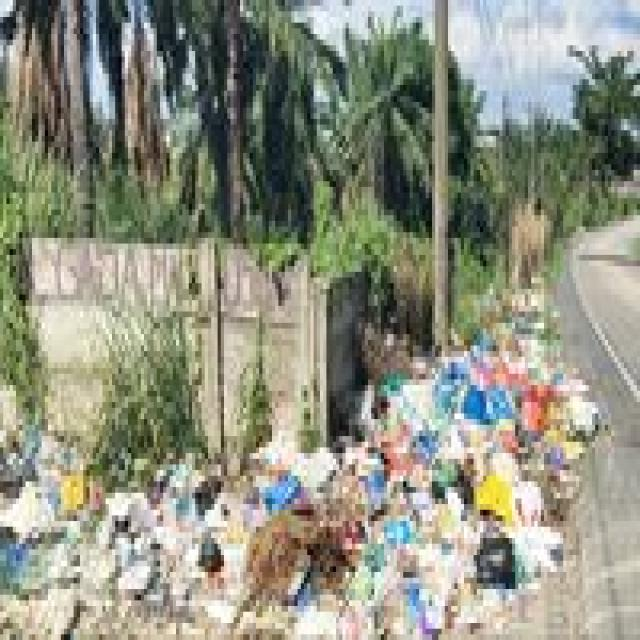trash: (14, 217, 602, 640)
